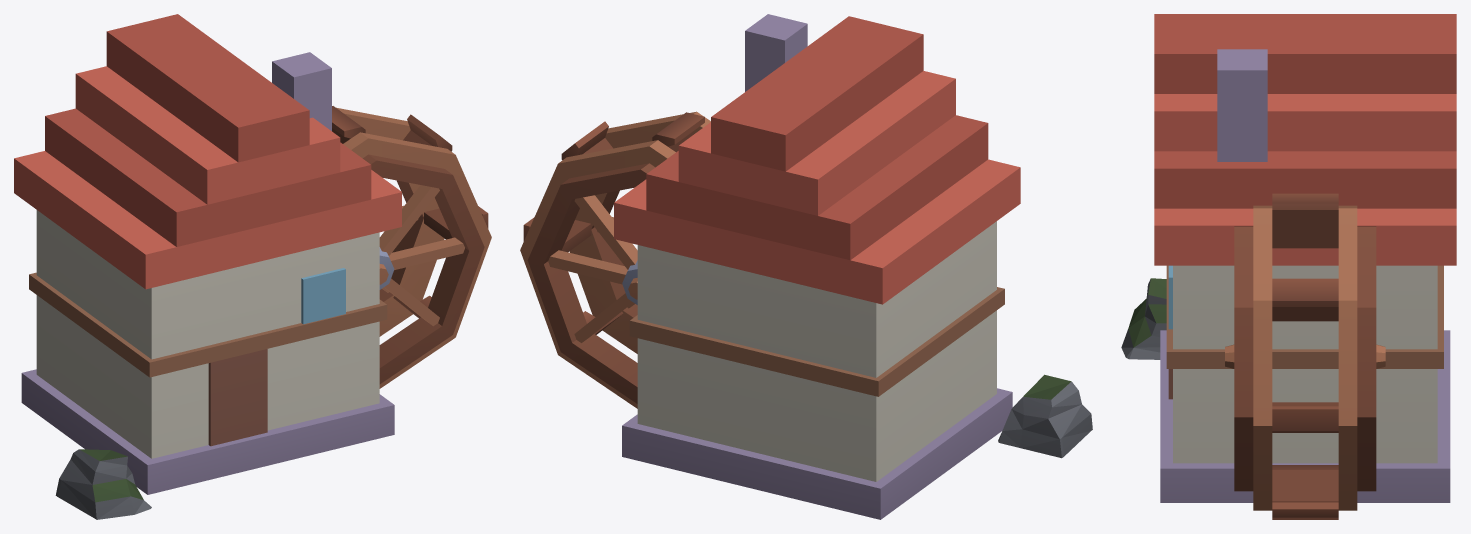
The model's file is old-watermill.glb.
3 views of the same model, side by side, from view 1: azimuth 30°, elevation 25°; view 2: azimuth 150°, elevation 25°; view 3: azimuth 270°, elevation 25° (orthographic). The views are drawn at different scales.
Visible parts, largest first — view 1: old-watermill_body; view 2: old-watermill_body; view 3: old-watermill_body.
Boxes of the visible parts, x1,y1,x2,y2 form: old-watermill_body: [14, 14, 491, 519]; old-watermill_body: [520, 14, 1092, 519]; old-watermill_body: [1121, 14, 1456, 519].
Size of the model in its own units: 9.66 by 7.2 by 5.32.
